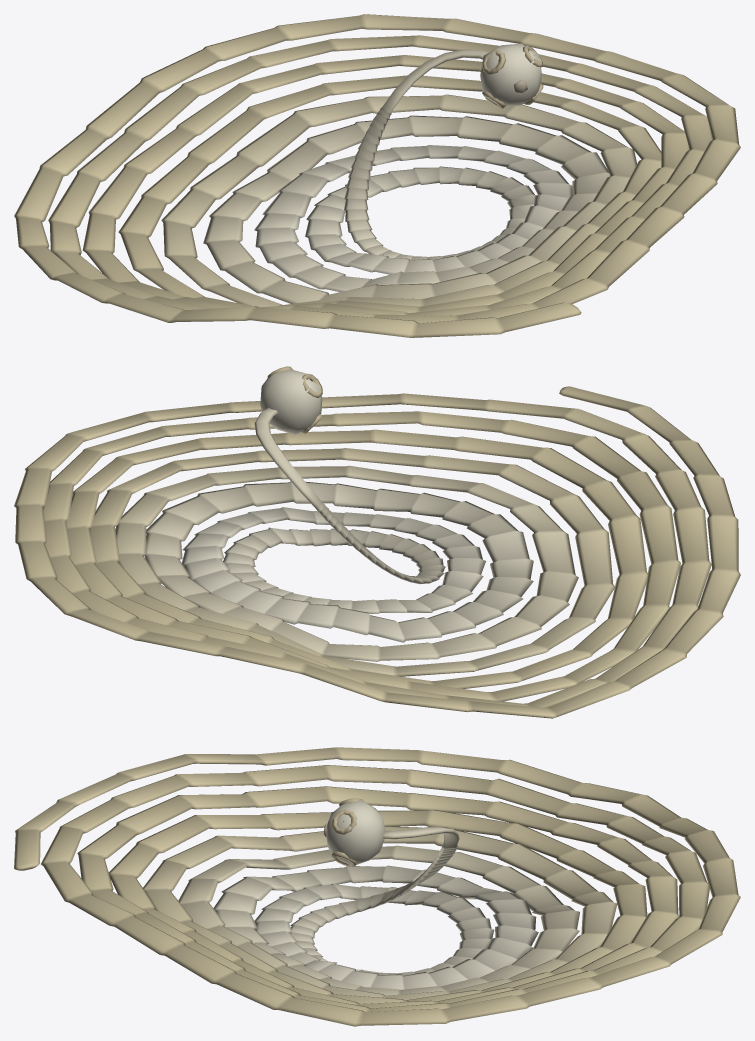
The model's file is BeefTapeworm.fbx.
The picture shows the model from 3 angles, top to bottom: view 1: azimuth 30°, elevation 25°; view 2: azimuth 150°, elevation 25°; view 3: azimuth 270°, elevation 25°; orthographic projection. The views are drawn at different scales.
Parts seen in each view (by area): view 1: BeefTapeworm; view 2: BeefTapeworm; view 3: BeefTapeworm.
Boxes of the visible parts, bbox=[...] form: BeefTapeworm: bbox=[14, 14, 740, 337]; BeefTapeworm: bbox=[14, 366, 740, 718]; BeefTapeworm: bbox=[14, 747, 740, 1026].
Size of the model in its own units: 1.14 by 0.2938 by 1.12.
